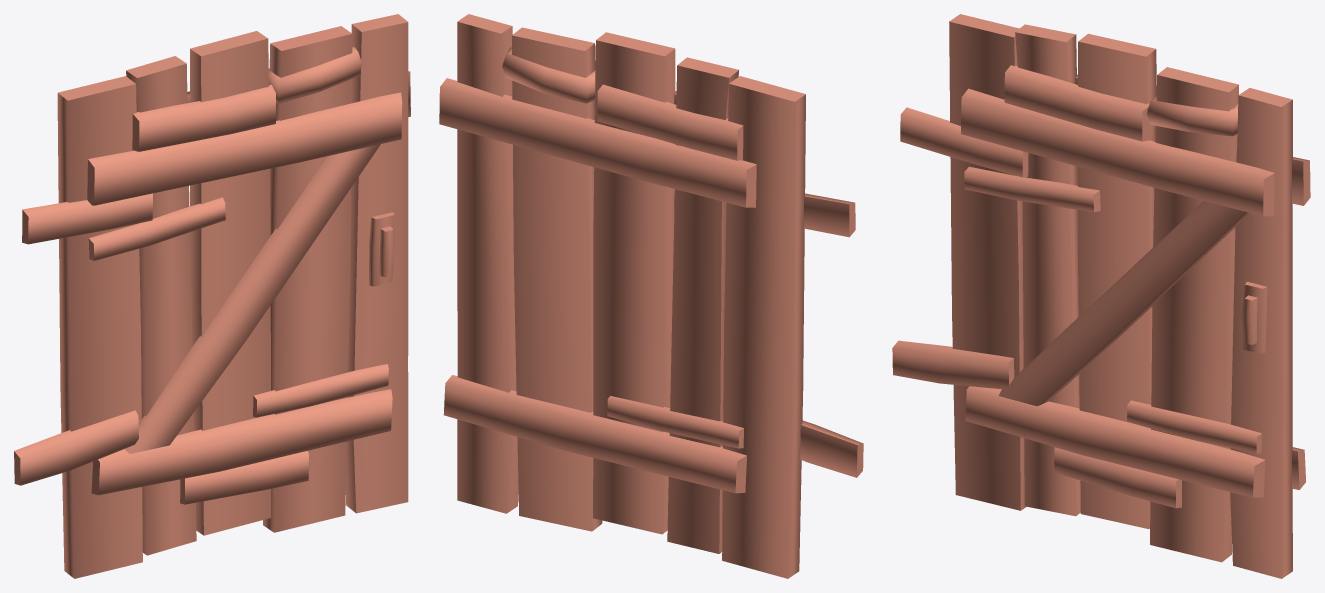
Rendered from door_01.fbx.
The picture shows the model from 3 angles, left to right: view 1: azimuth 30°, elevation 25°; view 2: azimuth 150°, elevation 25°; view 3: azimuth 330°, elevation 25°; orthographic projection.
Parts seen in each view (by area): view 1: Cube.188; view 2: Cube.188; view 3: Cube.188.
Boxes of the visible parts, x1,y1,x2,y2 form: Cube.188: [14, 14, 410, 578]; Cube.188: [439, 14, 863, 578]; Cube.188: [892, 14, 1310, 578].
Size of the model in its own units: 1.91 by 2.23 by 0.216.
